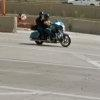Motorcycle: (22, 15, 76, 50)
